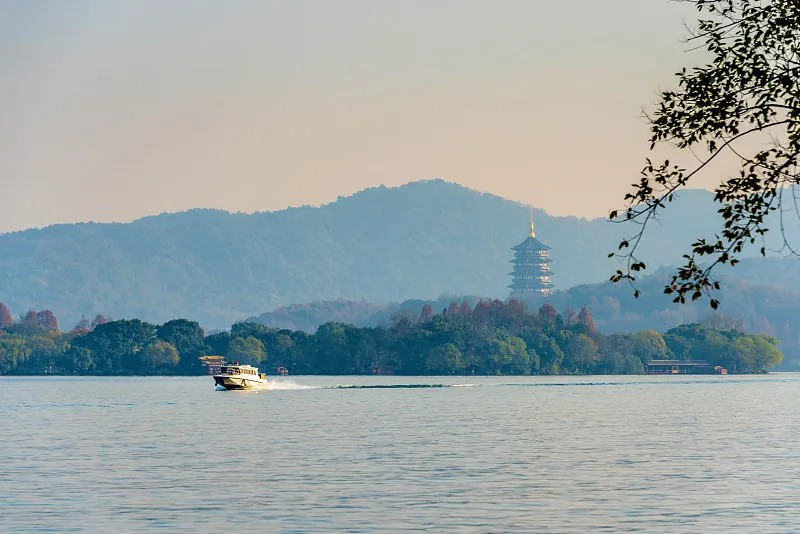Leifeng: (505, 209, 558, 299)
